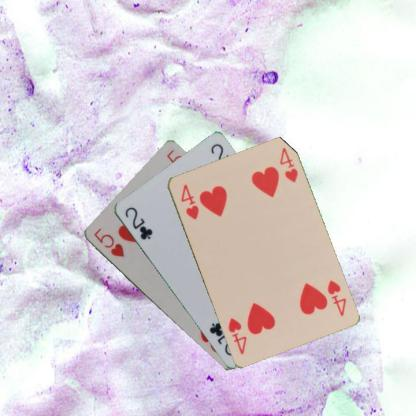2c: (122, 204, 154, 241)
4h: (324, 277, 347, 318), (177, 181, 200, 221)
5h: (91, 225, 125, 259)
